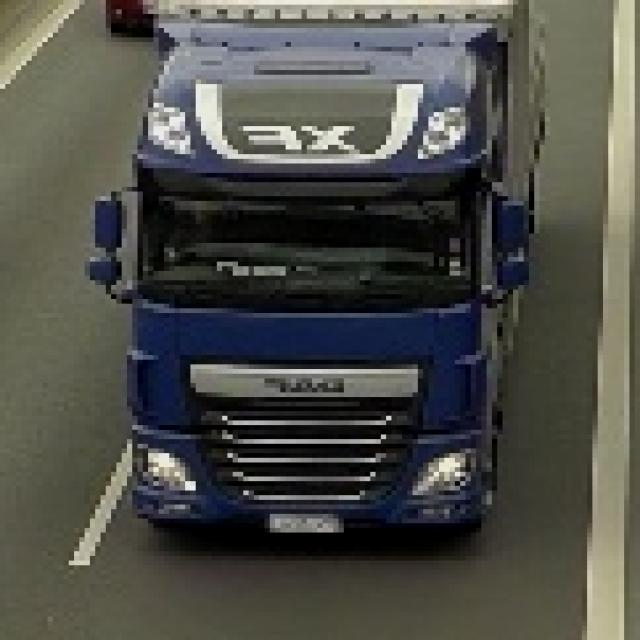TRUCK: (119, 0, 537, 556)
